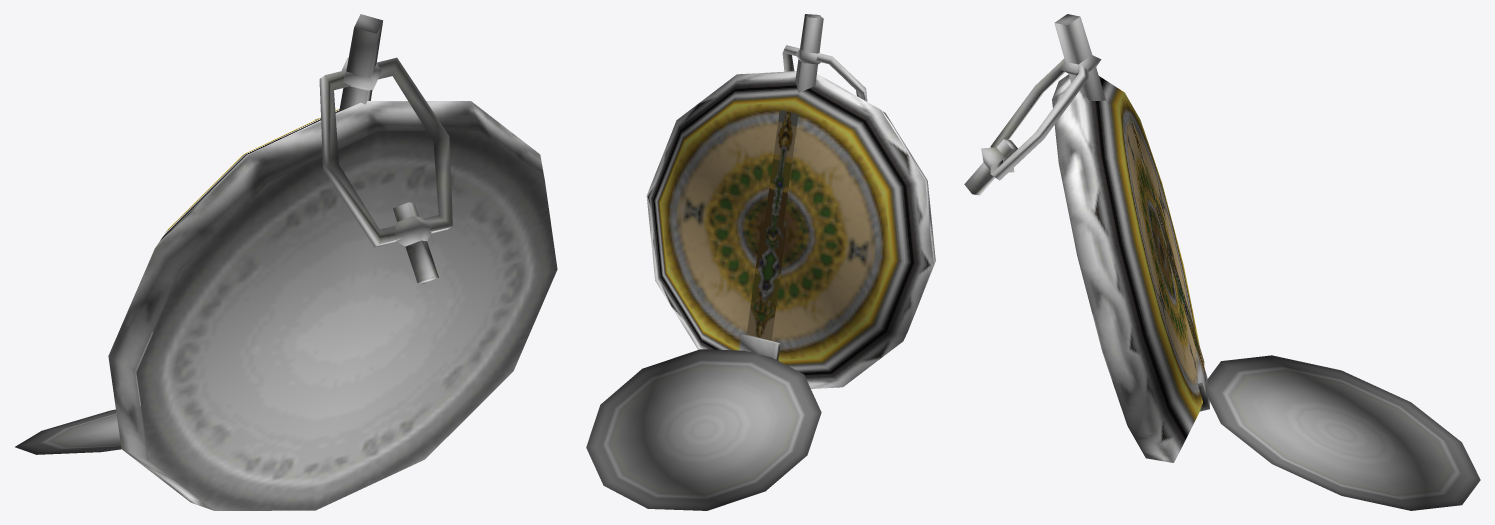
The model's file is icon1.ico.obj.
3 views of the same model, side by side, from view 1: azimuth 30°, elevation 25°; view 2: azimuth 150°, elevation 25°; view 3: azimuth 270°, elevation 25° (orthographic). The views are drawn at different scales.
Bounding box in the file's own units: 3.03 × 3.77 × 3.8.
1 material, 1 textured.
